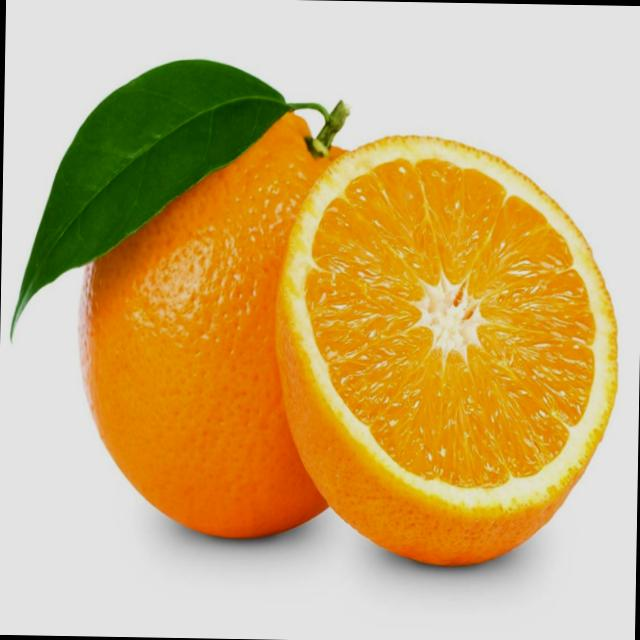orange: (60, 89, 398, 560)
